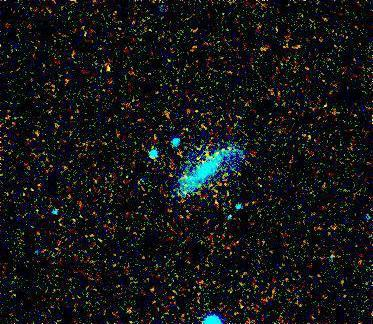star: (97, 55, 127, 85)
